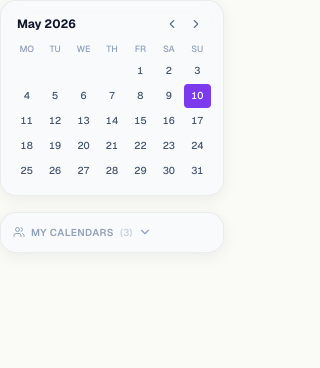
Test: CalendarLeftRail › My Calendars section › expands and re-collapses the master list when the header is clicked
Click the button with test id "rail-my-calendars-toggle": click(83, 232) 13,224 -> 152,240
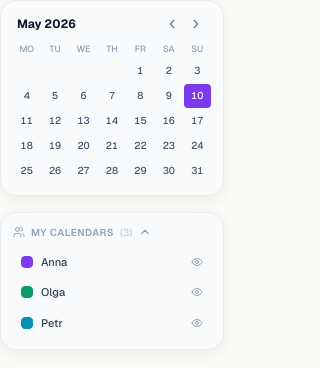
Now the button with test id "rail-my-calendars-toggle" is expanded
Now the number of buttons with test id "rail-master-toggle" is 3, box 13,248 -> 211,276; 13,278 -> 211,306; 13,308 -> 211,337
Click the button with test id "rail-my-calendars-toggle": click(83, 232) 13,224 -> 152,240
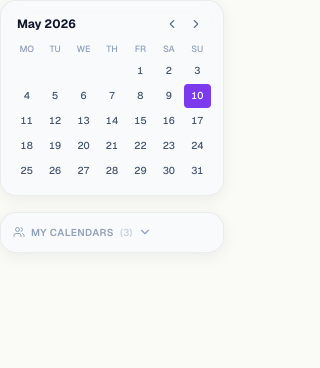
Now the button with test id "rail-my-calendars-toggle" is collapsed, box 13,224 -> 152,240
Now no buttons with test id "rail-master-toggle" are shown
